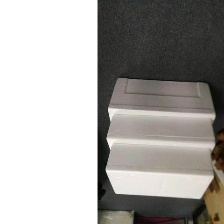foam_box: (100, 139, 217, 203), (104, 73, 219, 130), (102, 110, 220, 156)
